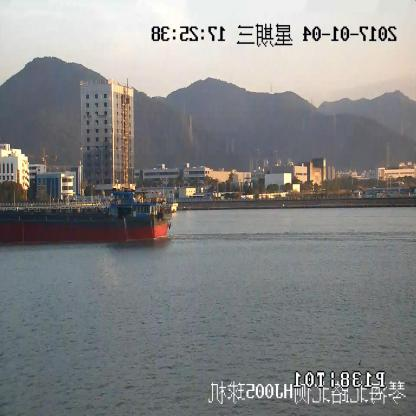Bulk Carrier: (0, 191, 174, 245)
